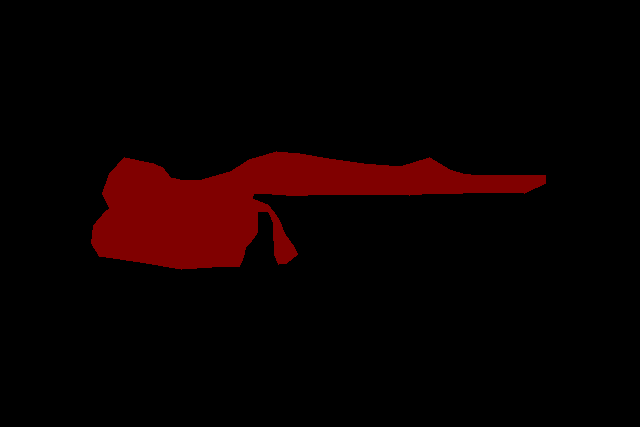fire: (91, 151, 545, 269)
